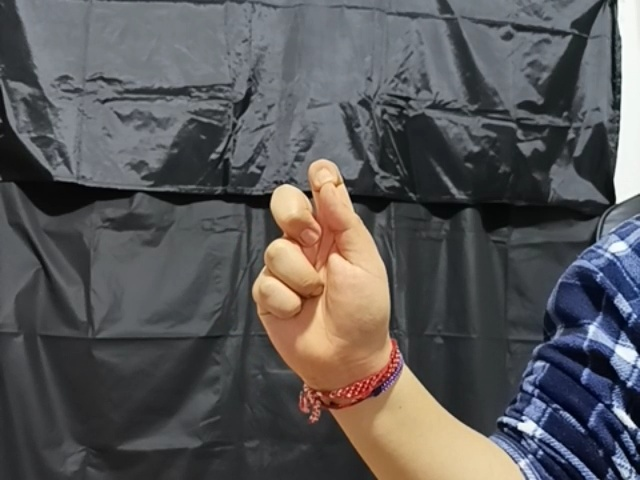T: (248, 158, 394, 368)
